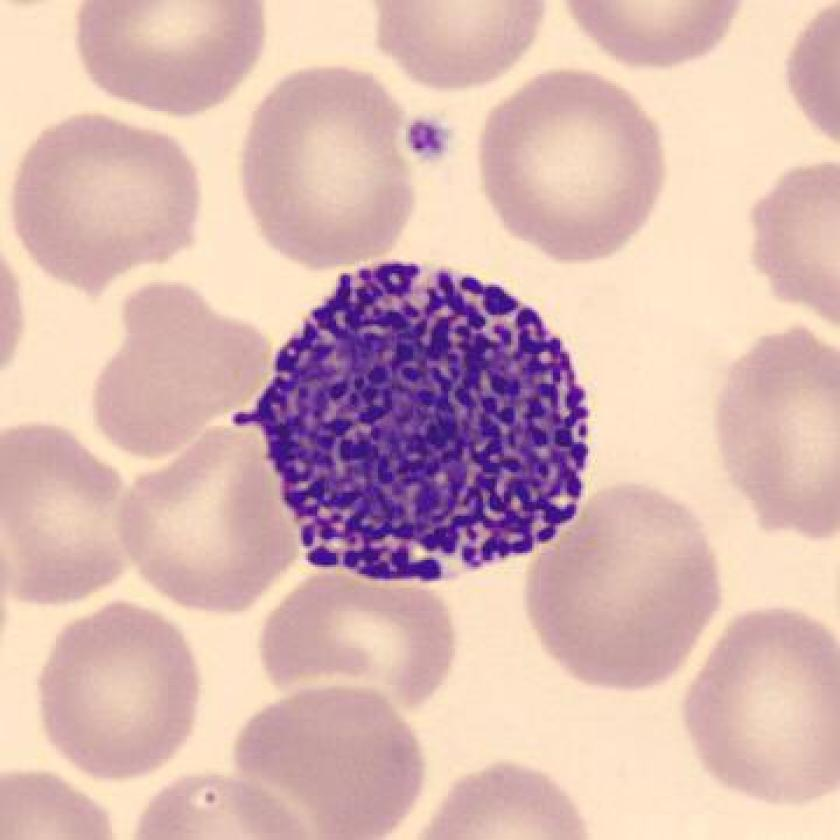basophil: (246, 244, 608, 591)
